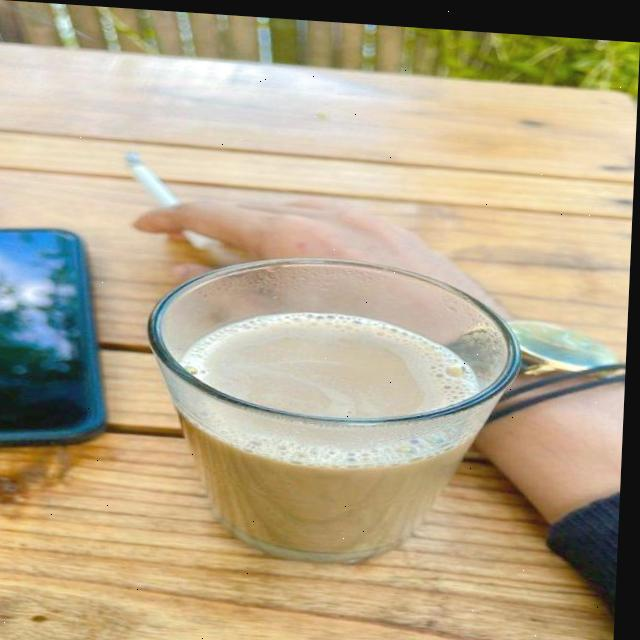cigarette: (119, 149, 222, 247)
